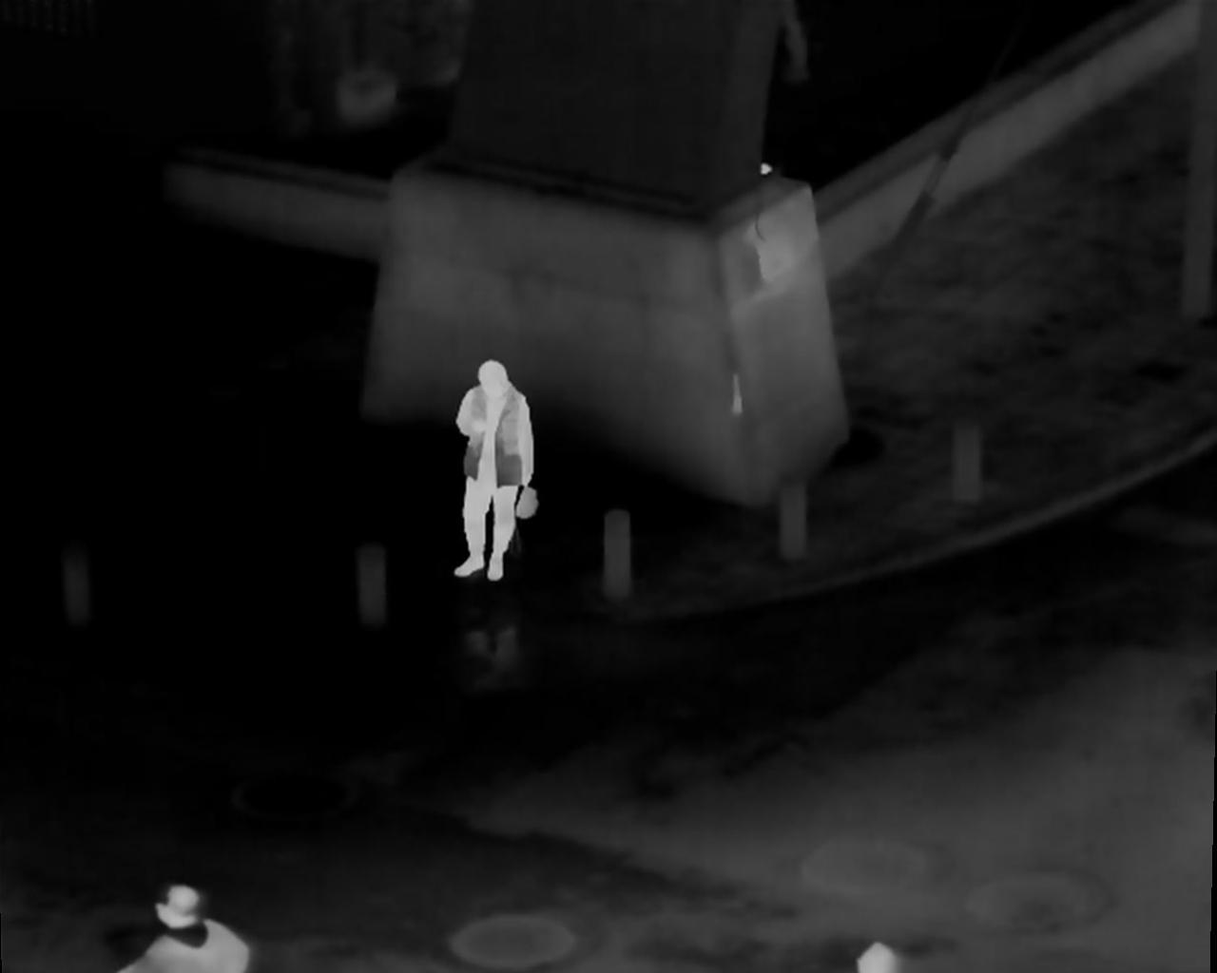person: (451, 368, 538, 570), (125, 882, 249, 970)
